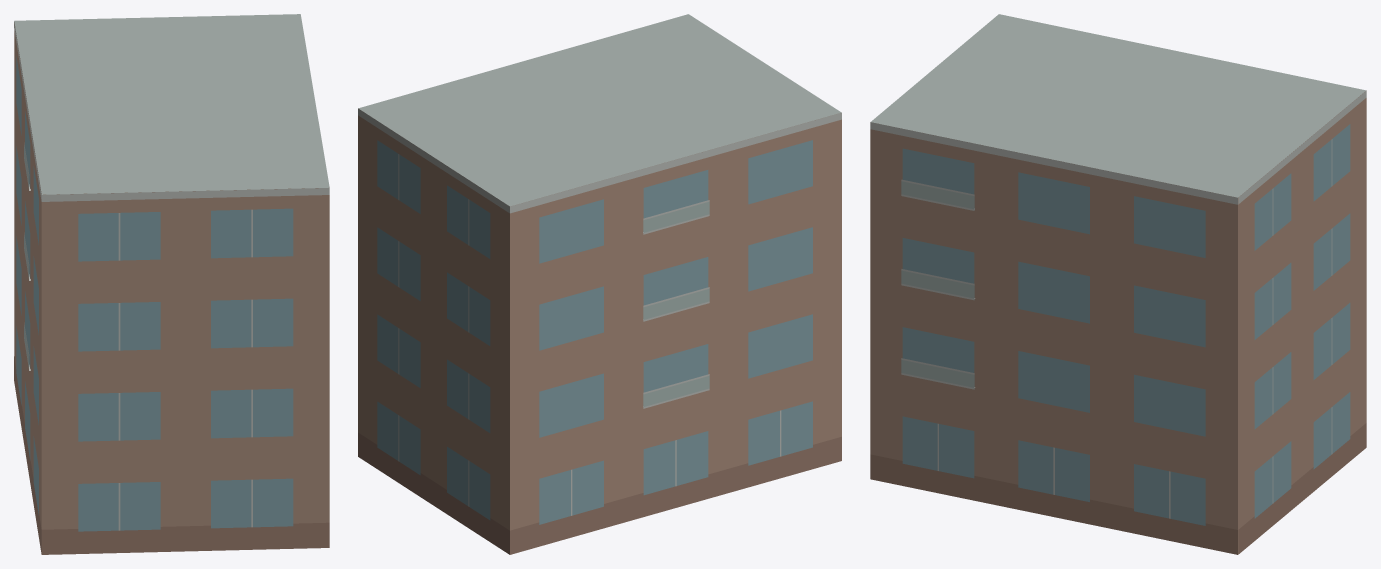
Rendered from survey-upis-32925271.glb.
3 renders of one model, left to right at view 1: azimuth 30°, elevation 25°; view 2: azimuth 150°, elevation 25°; view 3: azimuth 270°, elevation 25°, orthographic. The views are drawn at different scales.
Visible parts, largest first — view 1: survey-upis-32925271.tmp; view 2: survey-upis-32925271.tmp; view 3: survey-upis-32925271.tmp.
Boxes of the visible parts, box(x1,y1,x2,y2) form: survey-upis-32925271.tmp: box(14, 14, 329, 554); survey-upis-32925271.tmp: box(358, 14, 841, 554); survey-upis-32925271.tmp: box(870, 14, 1366, 554).
Bounding box in the file's own units: 13.47 × 12.2 × 15.37.
